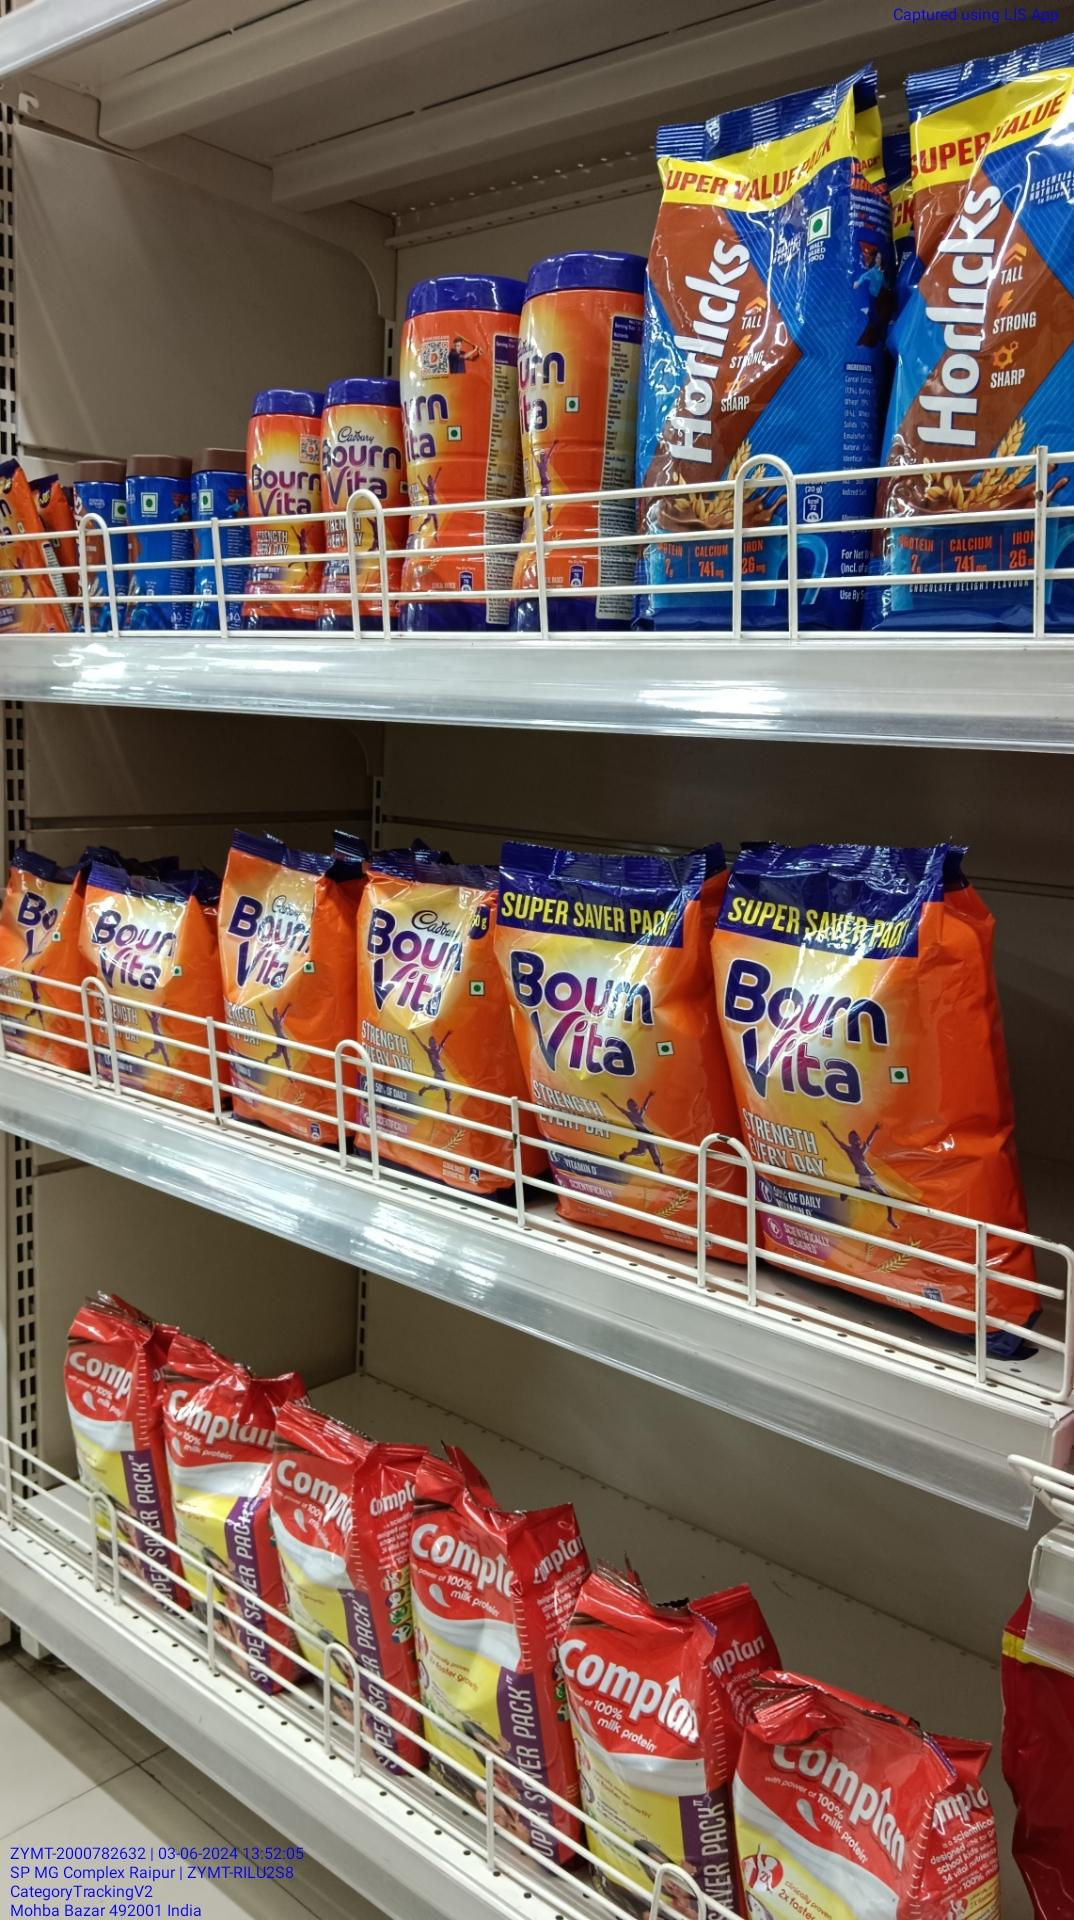BOURN_VITA_1_KG_JAR: (515, 256, 624, 629), (396, 281, 509, 624)
BOURN_VITA_500_G_JAR: (319, 375, 388, 632), (249, 388, 314, 630)
BOURN_VITA_750_G_POUCH: (743, 840, 1029, 1336), (513, 857, 726, 1259), (359, 873, 505, 1205), (222, 841, 351, 1135), (87, 861, 220, 1097), (0, 855, 88, 1073)
COMPLAN_RC_POUCH_700_GMS_12: (417, 1478, 563, 1845), (567, 1596, 719, 1920), (285, 1412, 406, 1789), (169, 1348, 281, 1688)
HORLICK_CHOCOLATE_750_G_POUCH: (885, 66, 1074, 622), (647, 100, 846, 611)
